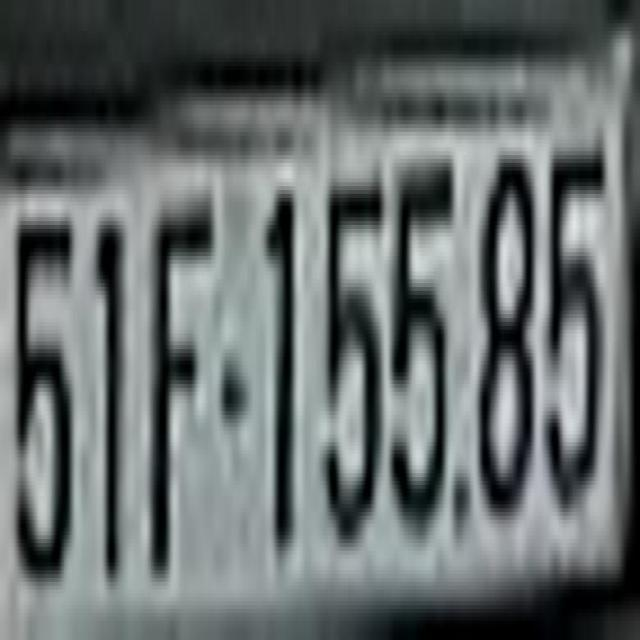1: (263, 151, 308, 574), (93, 182, 123, 594)
5: (545, 144, 608, 508), (322, 163, 382, 539), (16, 198, 73, 593), (391, 156, 448, 532)
F: (147, 178, 217, 586)
